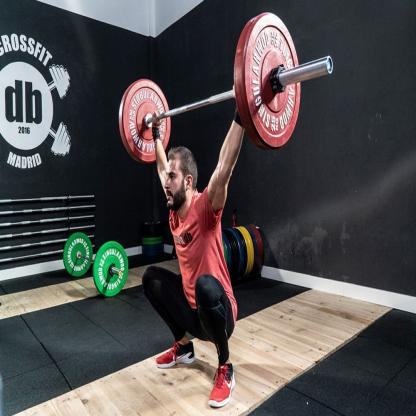barbell: (244, 12, 302, 151), (123, 79, 172, 165)
